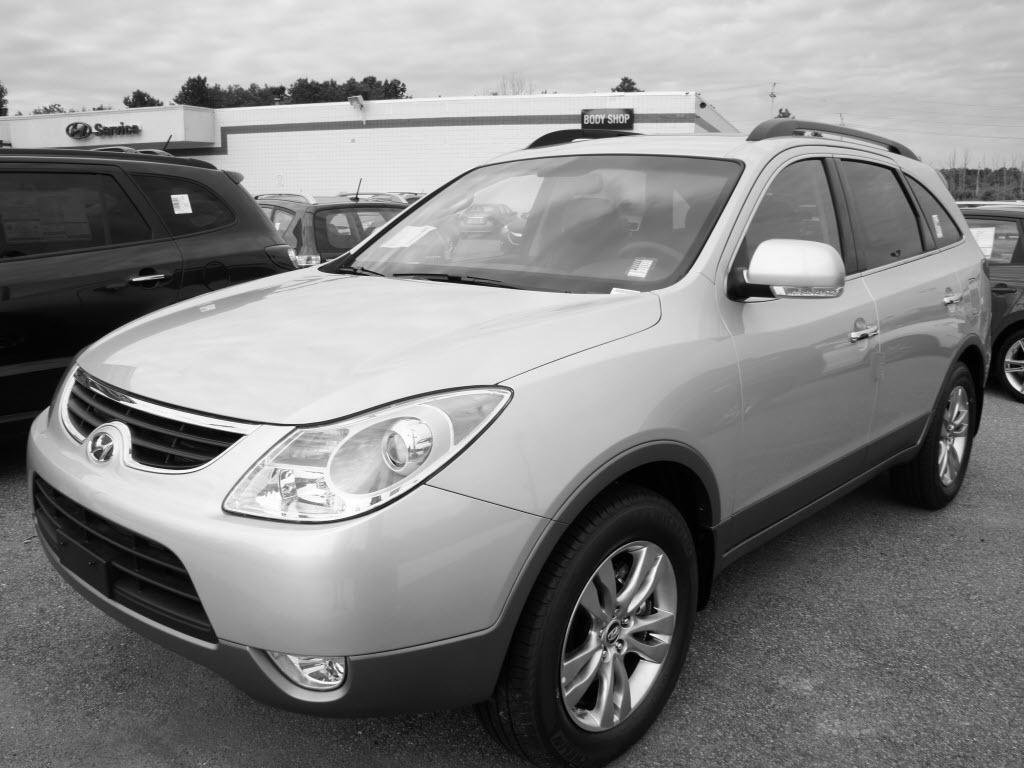car: (30, 114, 1001, 765)
